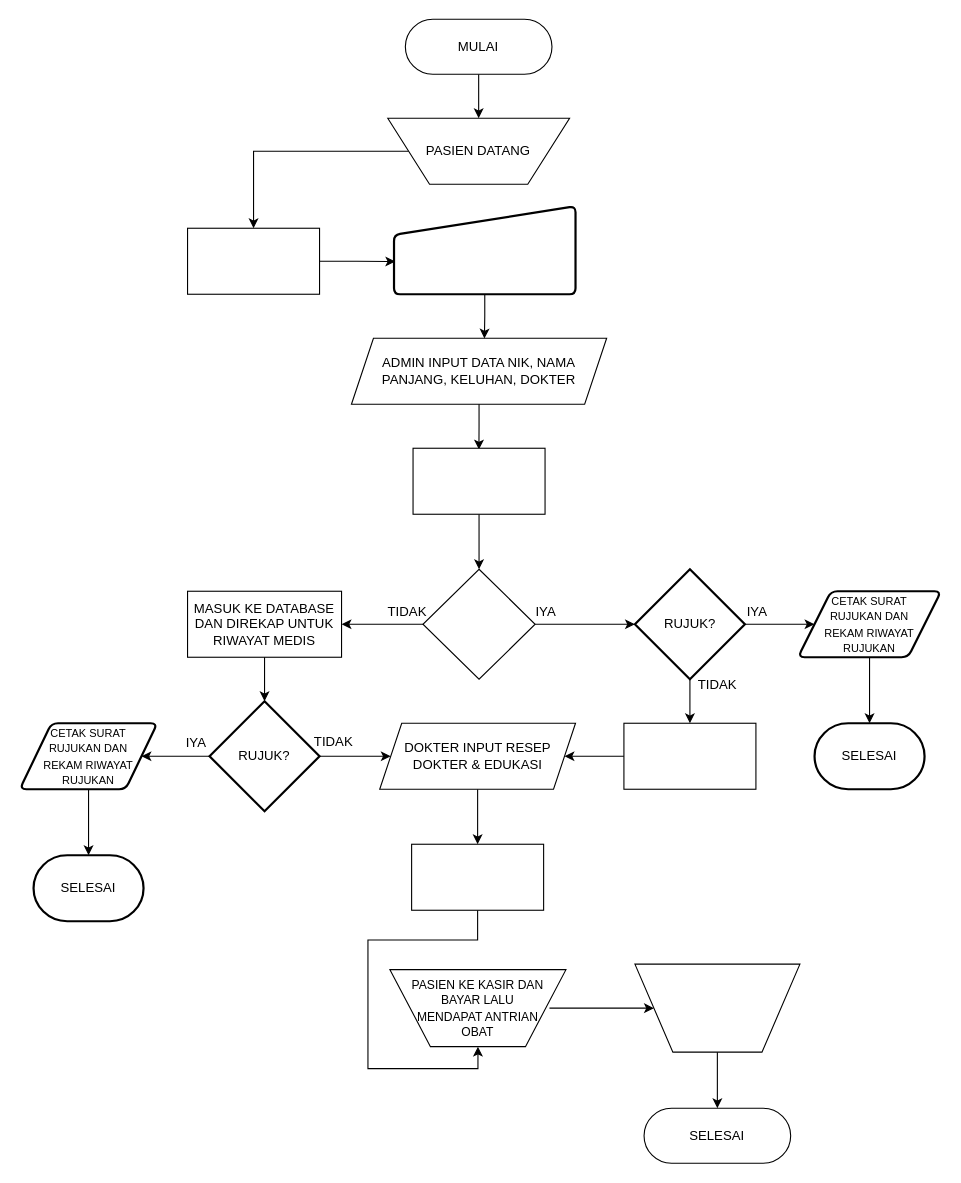
The diagram is 961 pixels wide and 1183 high, and some of its shapes have lost their labels. Each missing label, with the centre of its shape:
ADMIN KLIK ANTRIAN SELANJUTNYA: (x=484, y=250)
AMBIL ANTRIAN: (x=253, y=260)
BALITA?: (x=478, y=623)
DATA MASUK DB DAN DITERUSKAN KE DOKTER TUJUAN: (x=478, y=480)
MASUK KE SISTEM MONITORING STUNTING: (x=689, y=755)
PASIEN DIPANGGIL DAN AMBIL OBAT: (x=717, y=1007)
RESEP DIKIRIM KE FARMASI DAN TAGIHAN DIKIRIM KE KASIR: (x=477, y=876)
